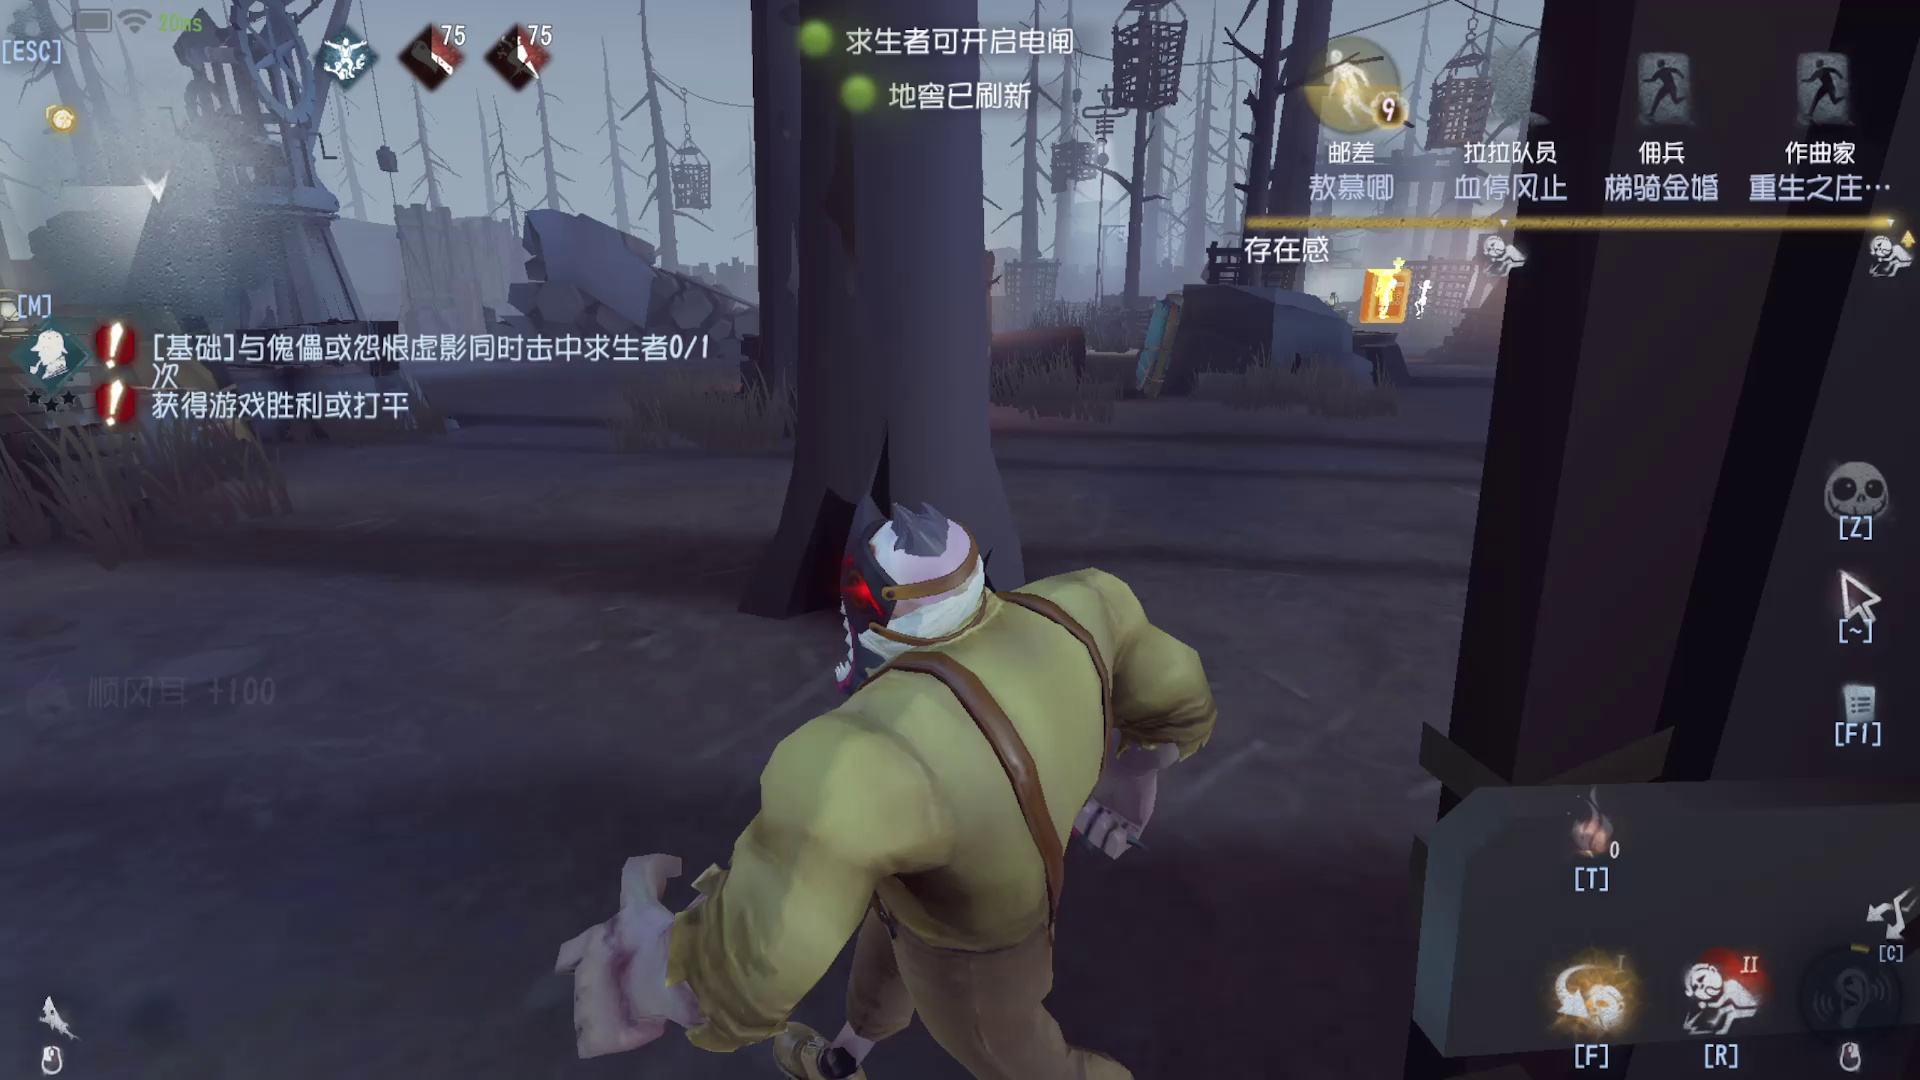木板: (83, 287, 316, 483)
设置: (1, 1, 84, 80)
